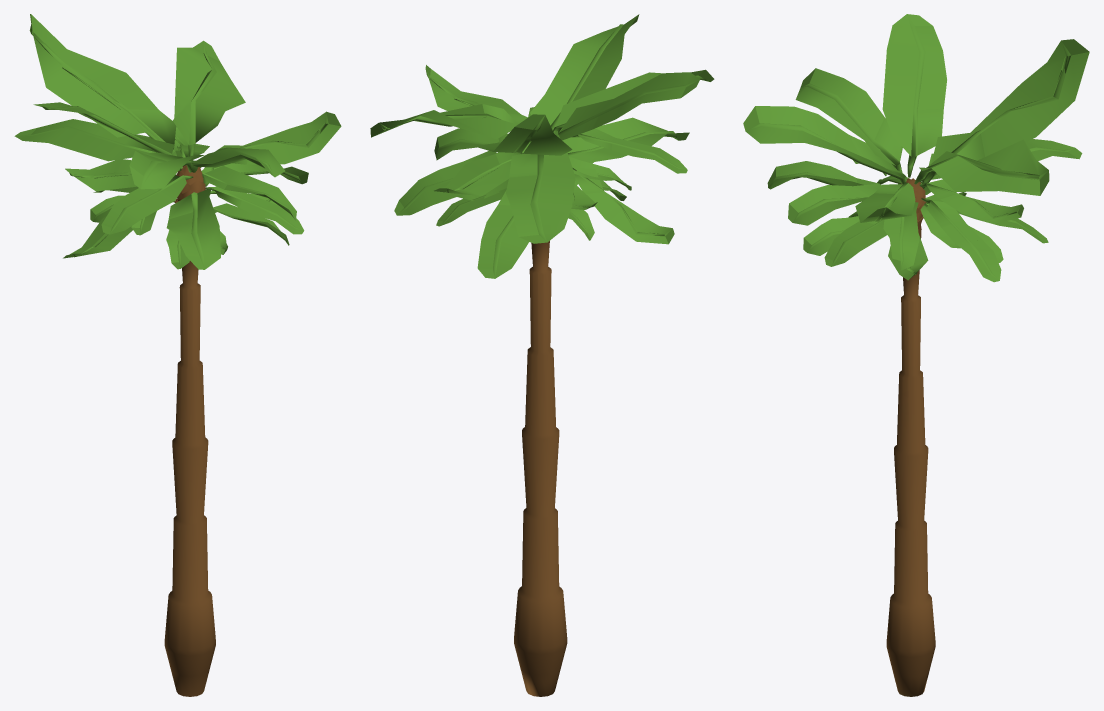
The model's file is palm_update.fbx.
3 views of the same model, side by side, from view 1: azimuth 30°, elevation 25°; view 2: azimuth 150°, elevation 25°; view 3: azimuth 270°, elevation 25° (orthographic). The views are drawn at different scales.
Parts seen in each view (by area): view 1: Tree; view 2: Tree; view 3: Tree.
Boxes of the visible parts, x1=… form: Tree: x1=14, y1=14, x2=341, y2=696; Tree: x1=370, y1=14, x2=714, y2=696; Tree: x1=743, y1=14, x2=1089, y2=696.
Size of the model in its own units: 318 by 684 by 349.
